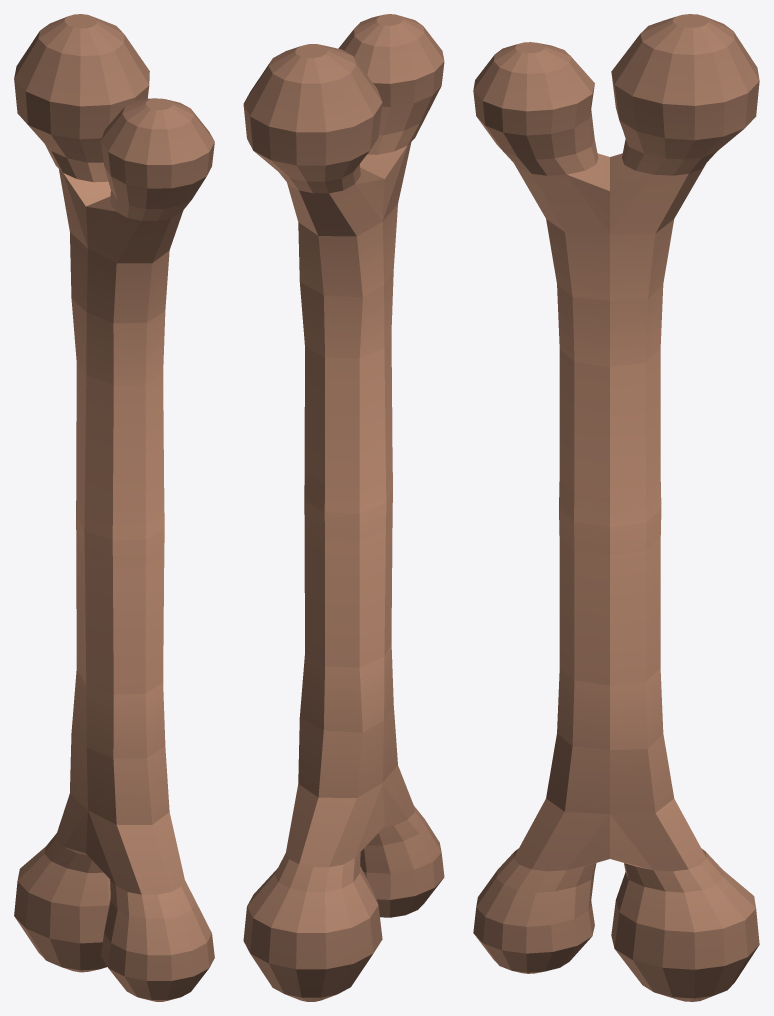
Rendered from bone.glb.
3 views of the same model, side by side, from view 1: azimuth 30°, elevation 25°; view 2: azimuth 150°, elevation 25°; view 3: azimuth 270°, elevation 25° (orthographic). The views are drawn at different scales.
Parts seen in each view (by area): view 1: bone_merged; view 2: bone_merged; view 3: bone_merged.
Part boxes in pixels (box(x1,y1,x2,y2)): bone_merged: box(14, 14, 214, 1001); bone_merged: box(243, 14, 444, 1001); bone_merged: box(473, 14, 759, 1001).
Bounding box in the file's own units: 0.2197 × 1.68 × 0.4477.
Materials: 1 (1 with a texture image).
